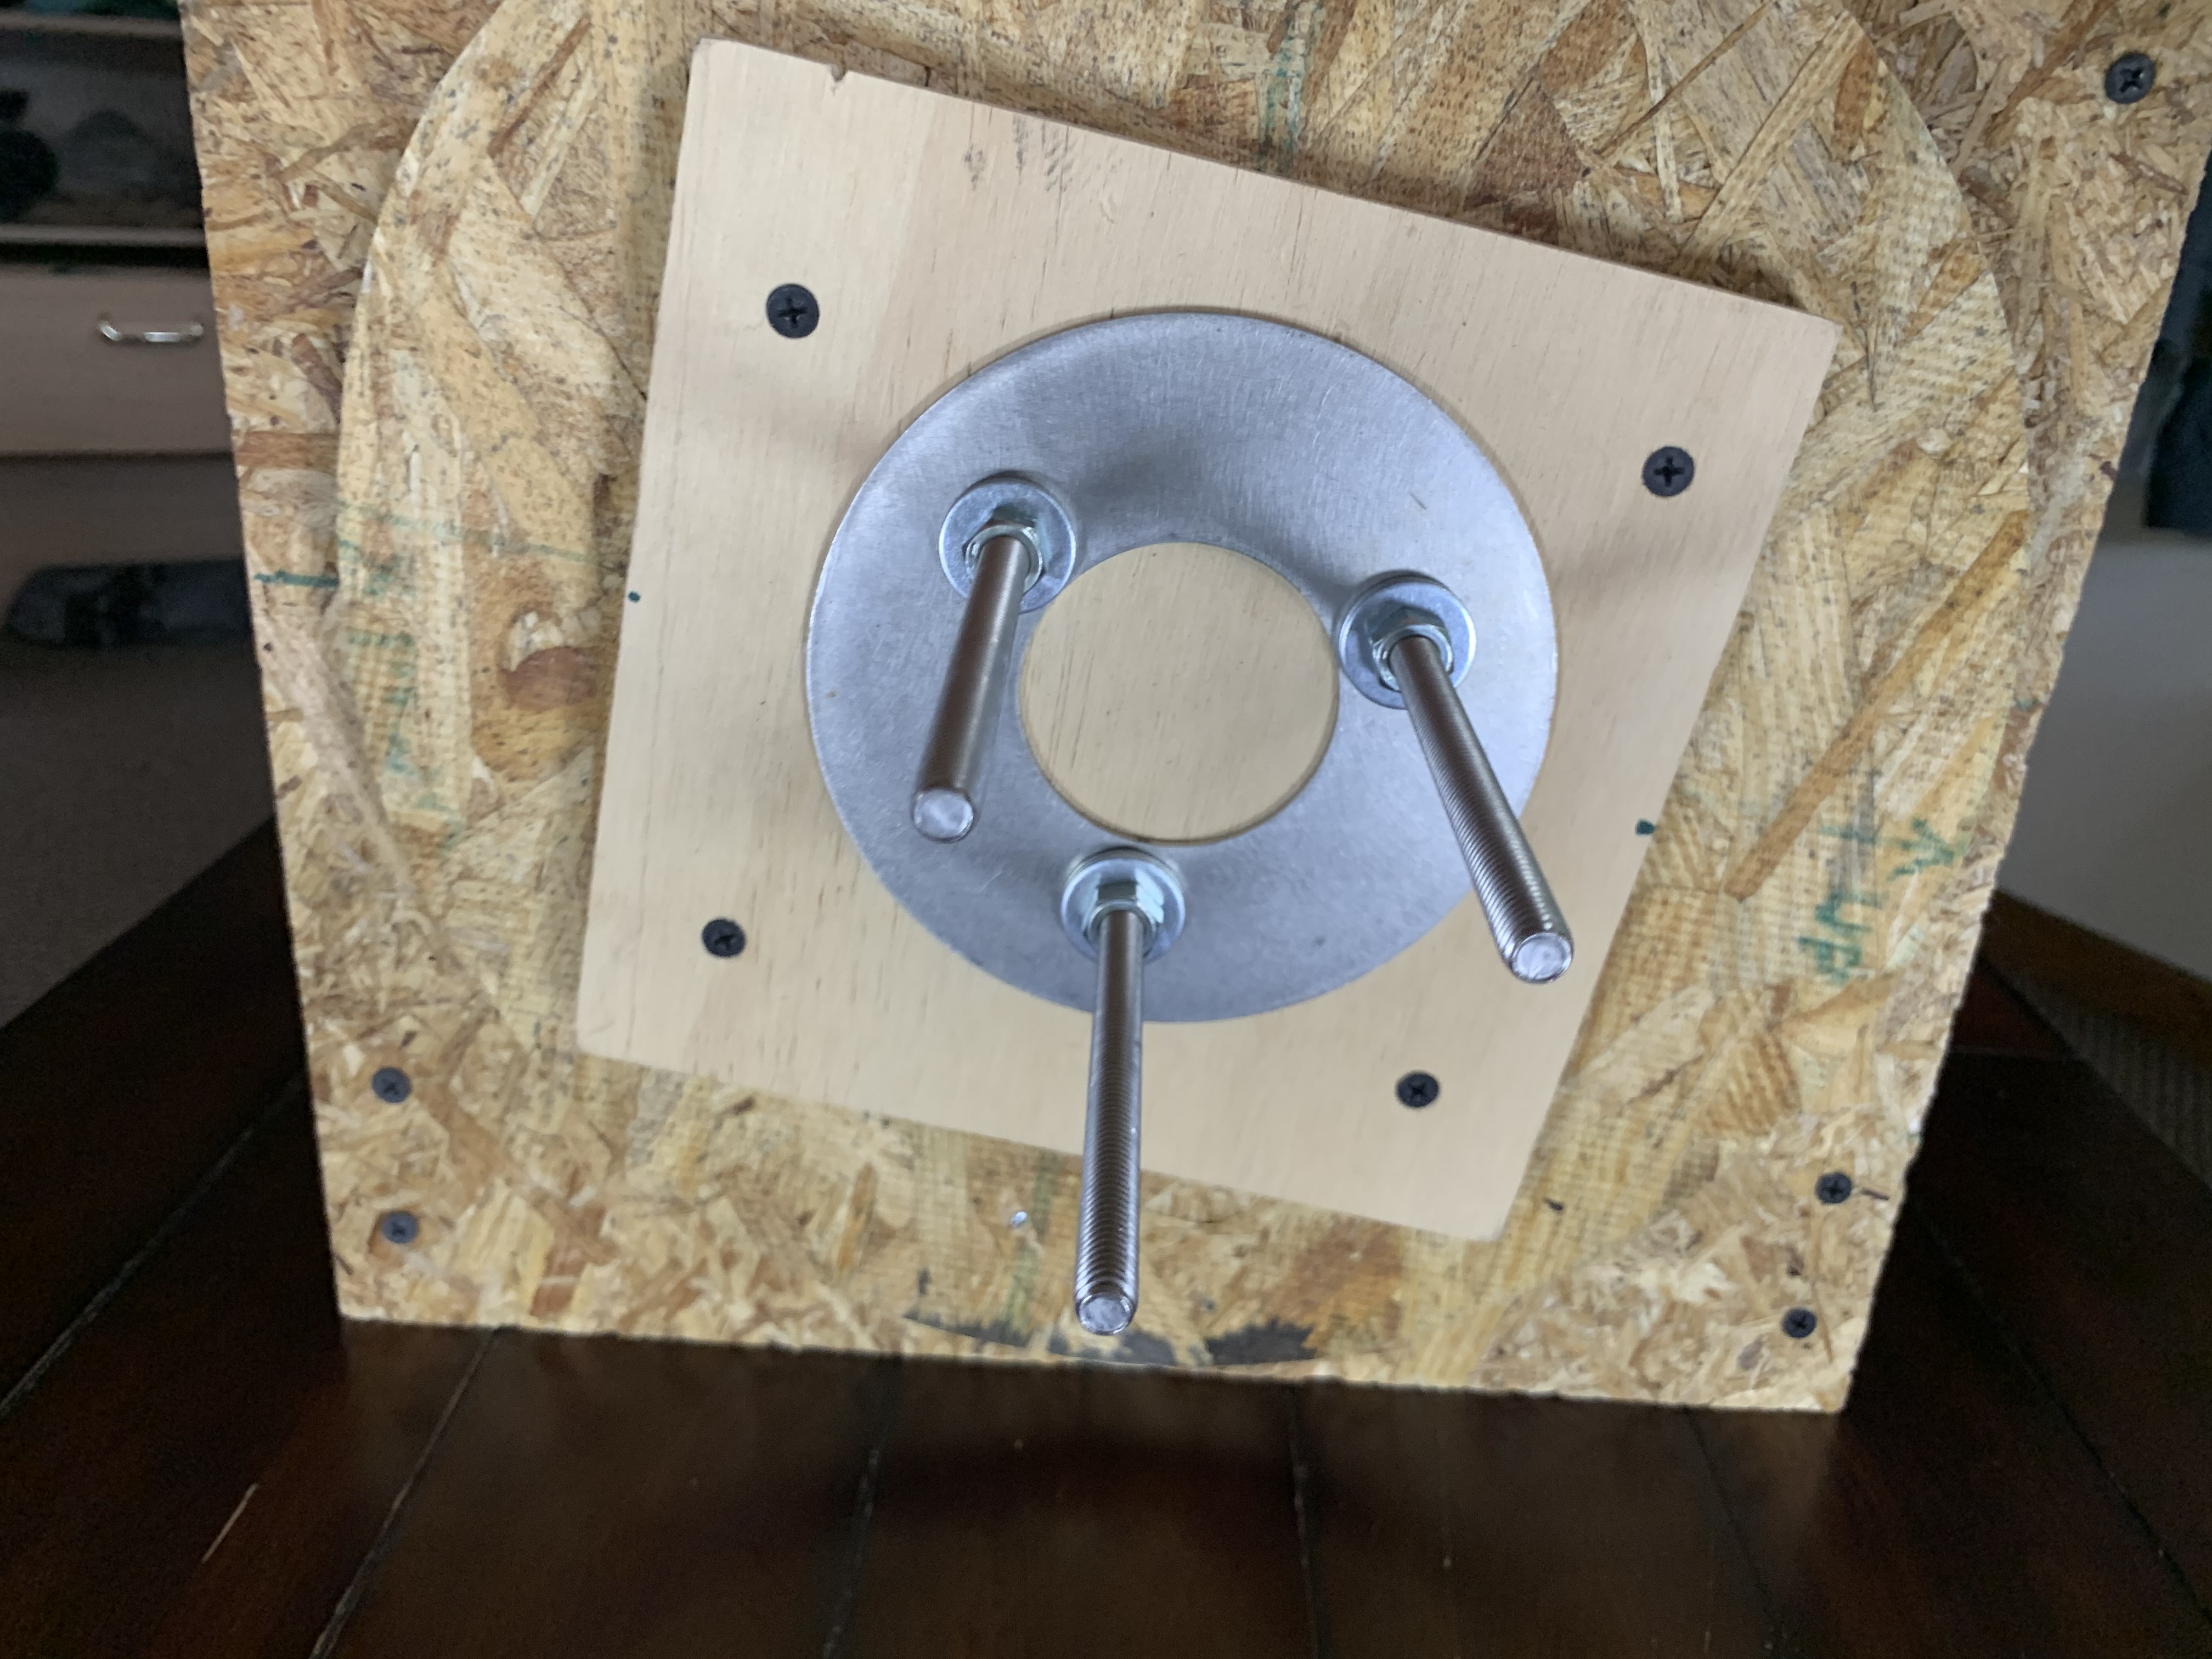bolt: (935, 472, 1080, 608), (1332, 575, 1477, 708), (1055, 845, 1190, 964)
